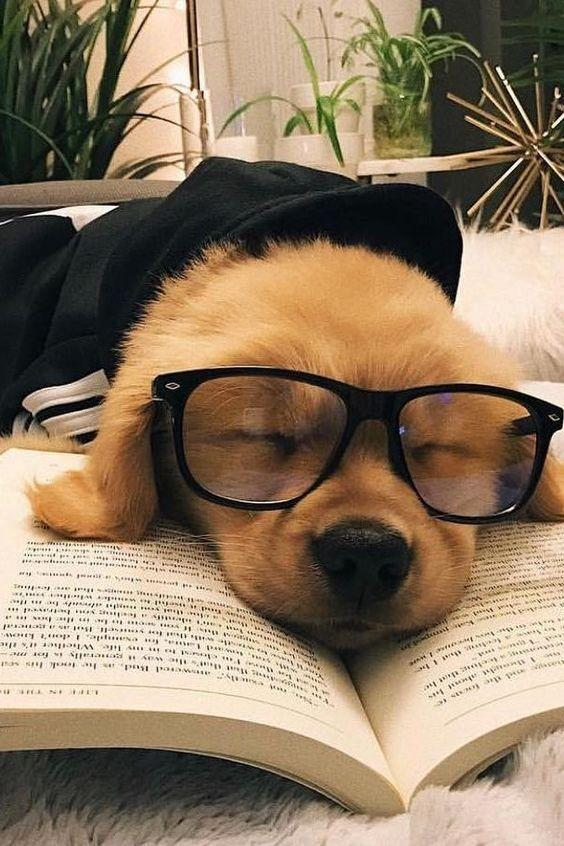puppy-dog: (24, 237, 564, 660)
